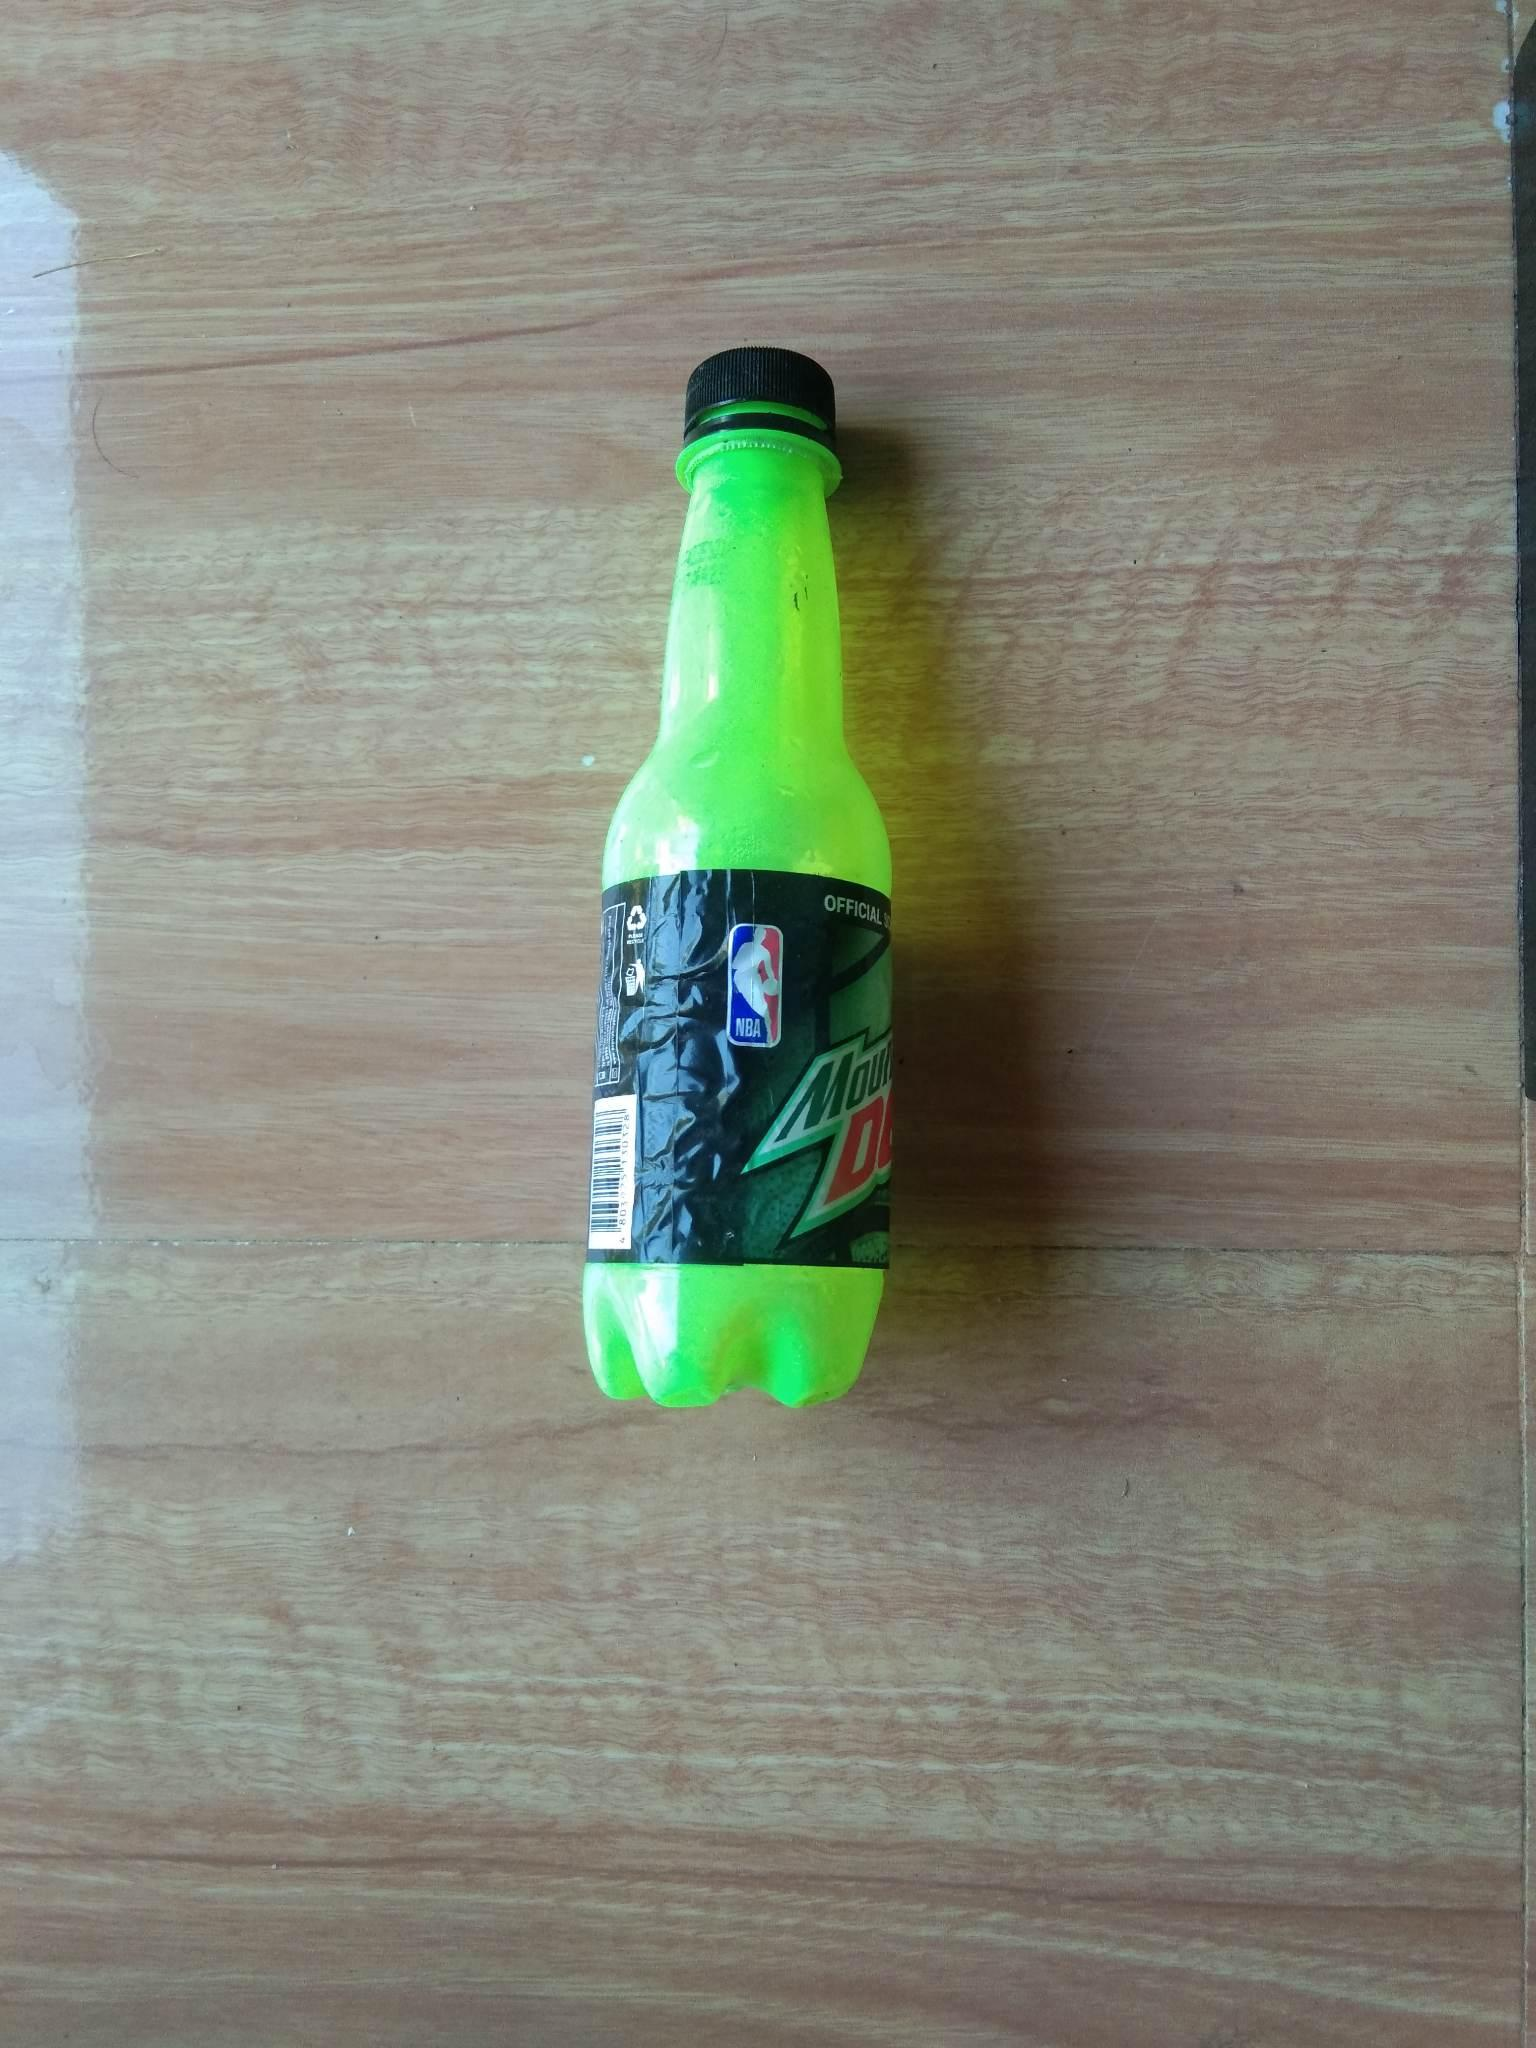plastic: (466, 276, 1063, 1522)
